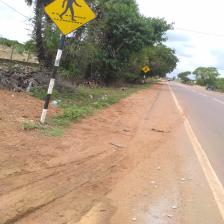yellowboard: (43, 0, 96, 35)
